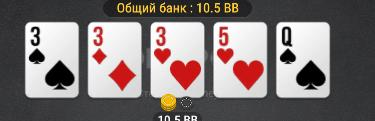3d: (89, 24, 142, 96)
3h: (152, 24, 204, 97)
3s: (26, 24, 78, 97)
5h: (215, 24, 266, 97)
Qs: (278, 24, 329, 97)
